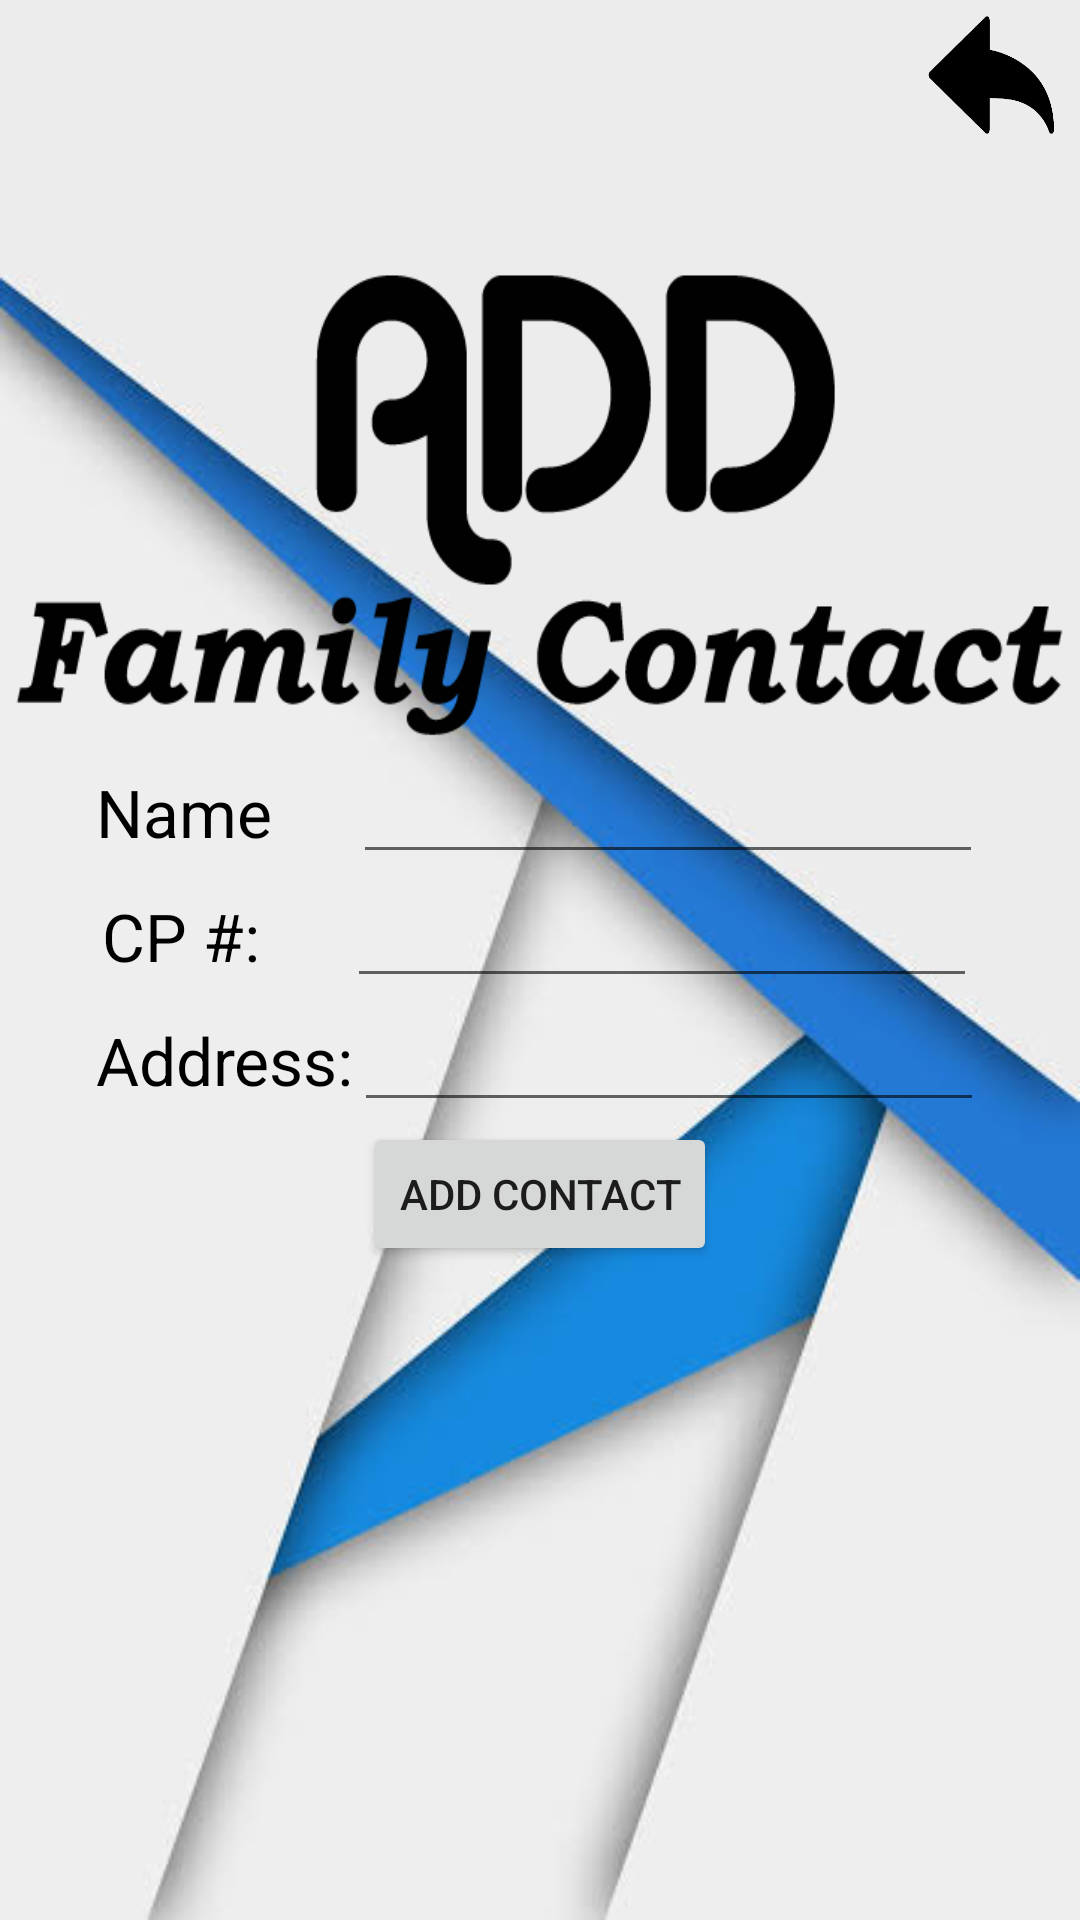

Icons on this 1080*1920 Android screen, each with its box as (x1, y1, x2, y2):
back arrow: (928, 16, 1054, 134)
